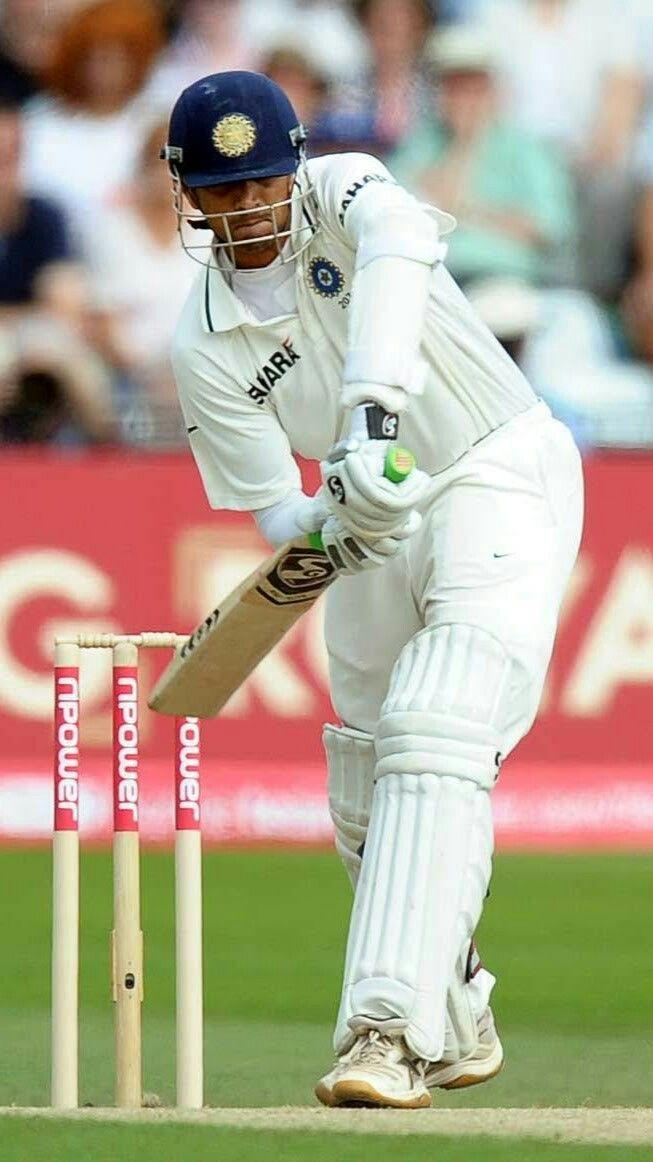batsman: (98, 53, 589, 1106)
